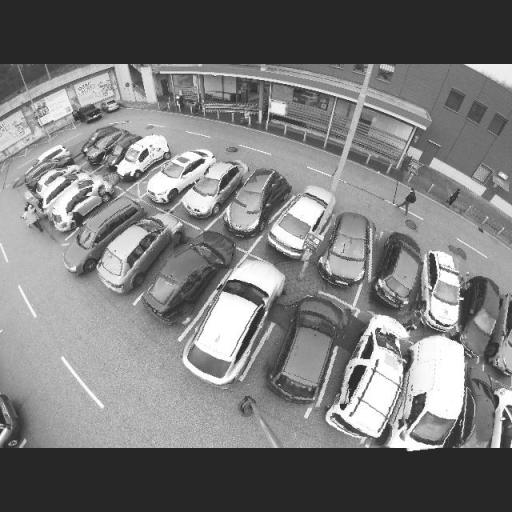busy: (333, 310, 414, 447), (189, 268, 281, 388), (266, 291, 347, 410), (398, 332, 474, 450), (143, 234, 230, 328), (95, 216, 177, 296), (316, 208, 383, 290), (414, 245, 470, 339), (457, 274, 512, 366), (267, 186, 333, 262), (222, 168, 290, 240), (371, 232, 426, 310), (76, 196, 140, 263), (181, 162, 246, 220), (44, 178, 111, 232), (148, 152, 208, 203), (116, 136, 166, 182), (33, 168, 79, 210), (87, 126, 129, 167), (104, 131, 134, 165)
